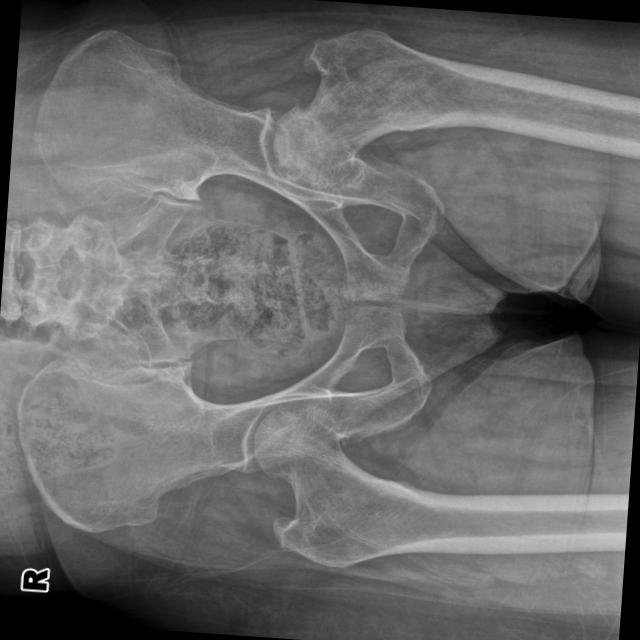normal-left: (273, 26, 582, 188)
normal-right: (253, 402, 509, 566)
